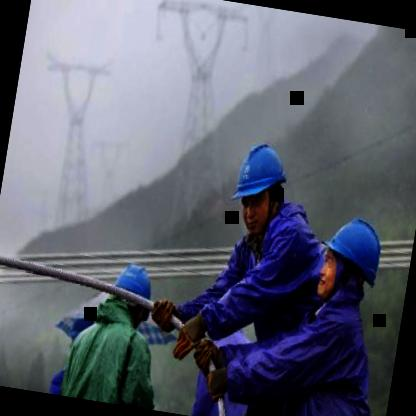helmet: (309, 208, 392, 320), (221, 131, 296, 243), (104, 258, 160, 326)
